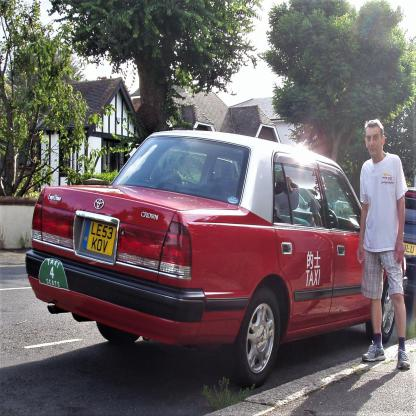taxi: (26, 113, 361, 391)
